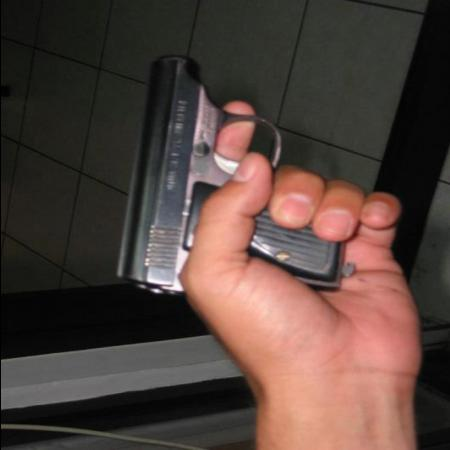Pistol: (110, 53, 344, 299)
